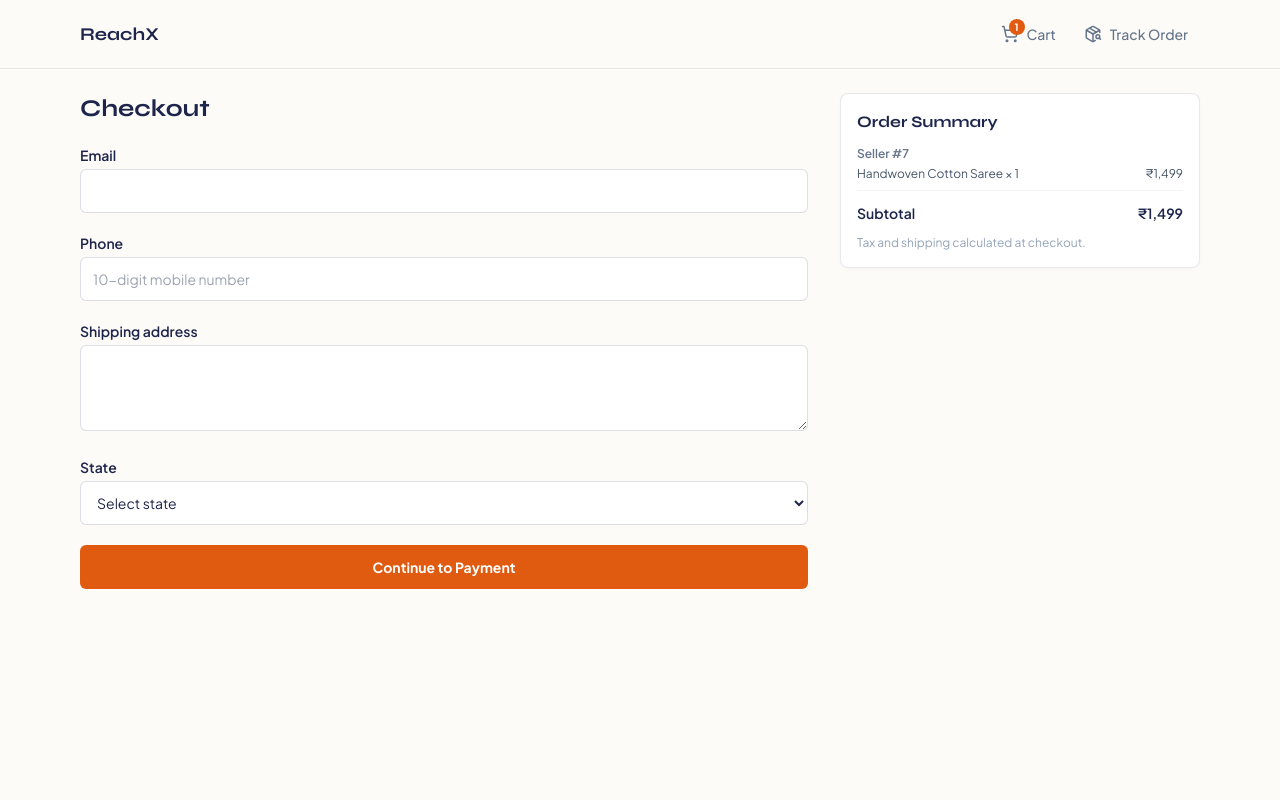
Test case: Checkout - Session 3, order creation + Razorpay wiring › shows an inline error and returns to the form on an order-creation failure, without touching the cart
Expected: the heading "Checkout" is shown, 80,94 -> 210,123
Type "guest@example.com" into the field labelled "Email" at coordinates (444, 191), box 80,169 -> 808,213
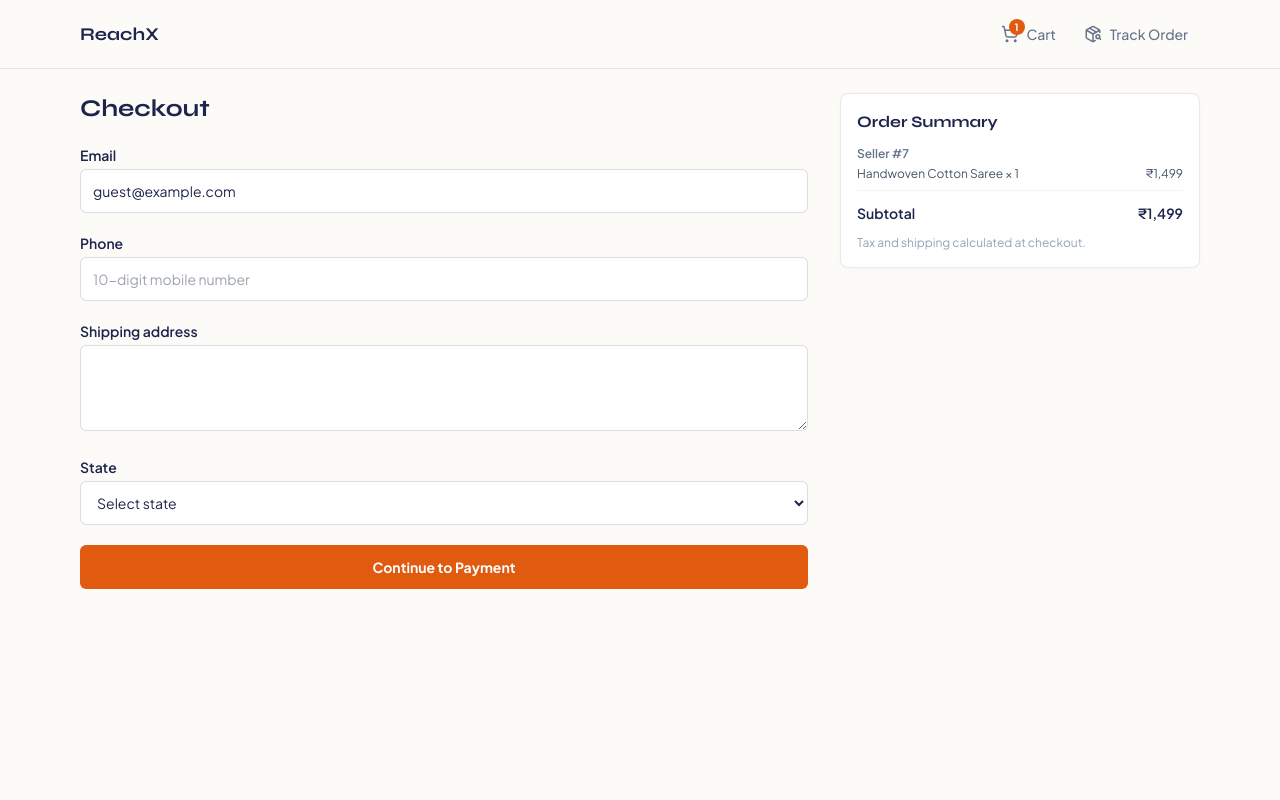
Type "9876543210" into the field labelled "Phone" at coordinates (444, 279), box 80,257 -> 808,301
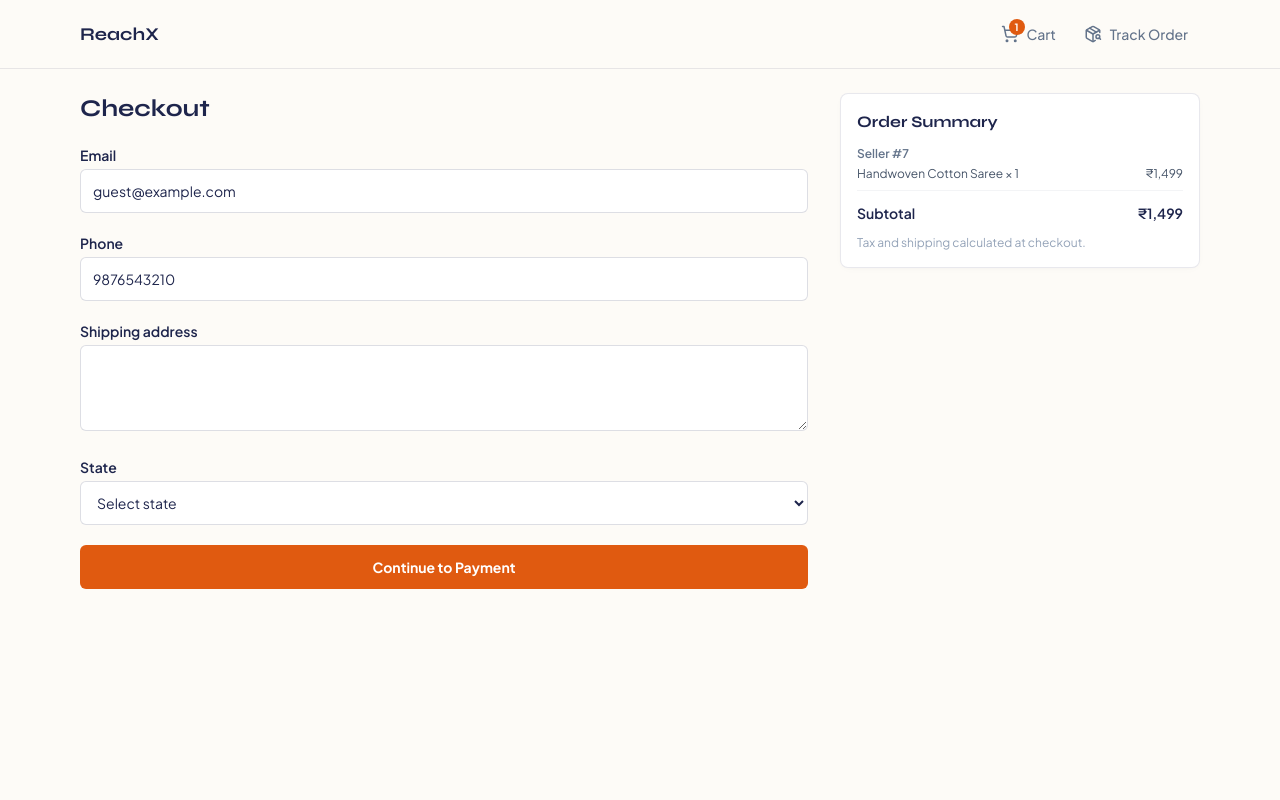
Type "123 MG Road, Bengaluru, 560001" into the text box labelled "Shipping address" at coordinates (444, 388), box 80,345 -> 808,431
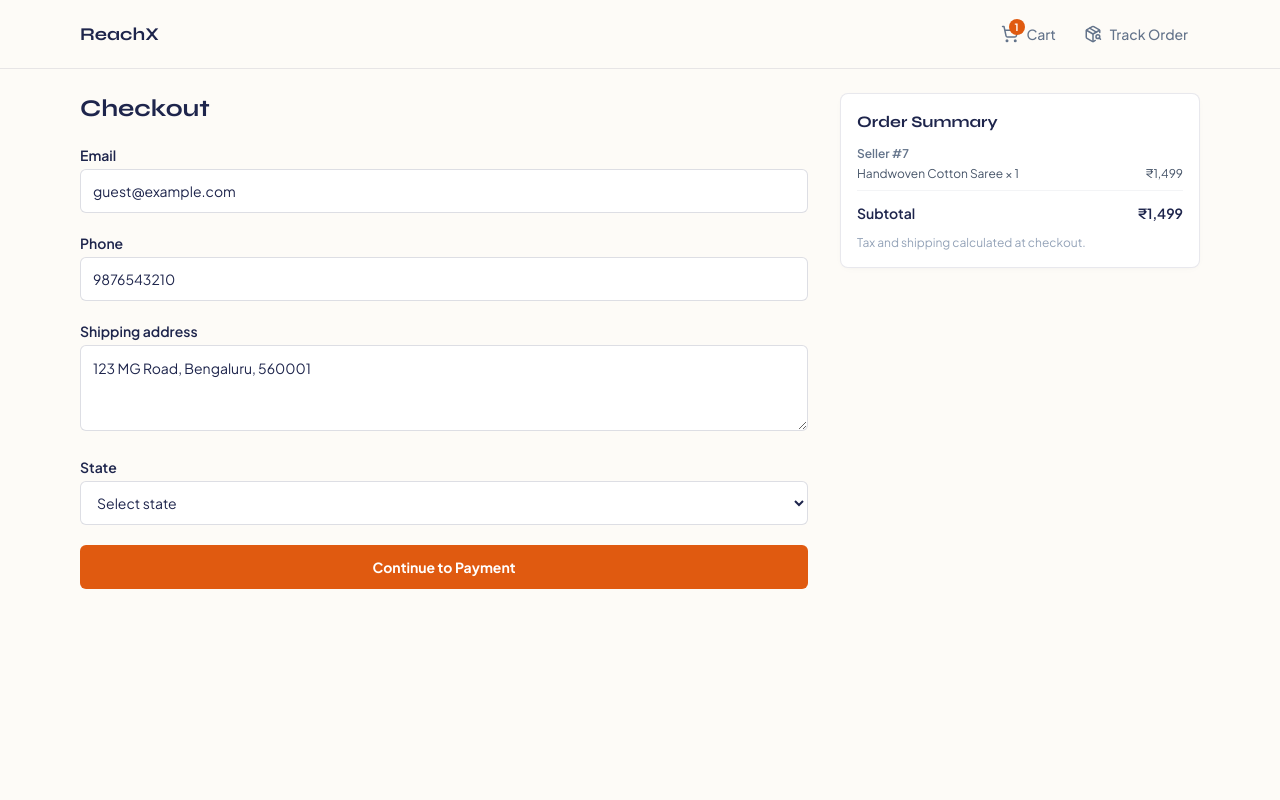
Select "Karnataka" in the dropdown labelled "State" at coordinates (444, 503), box 80,481 -> 808,525
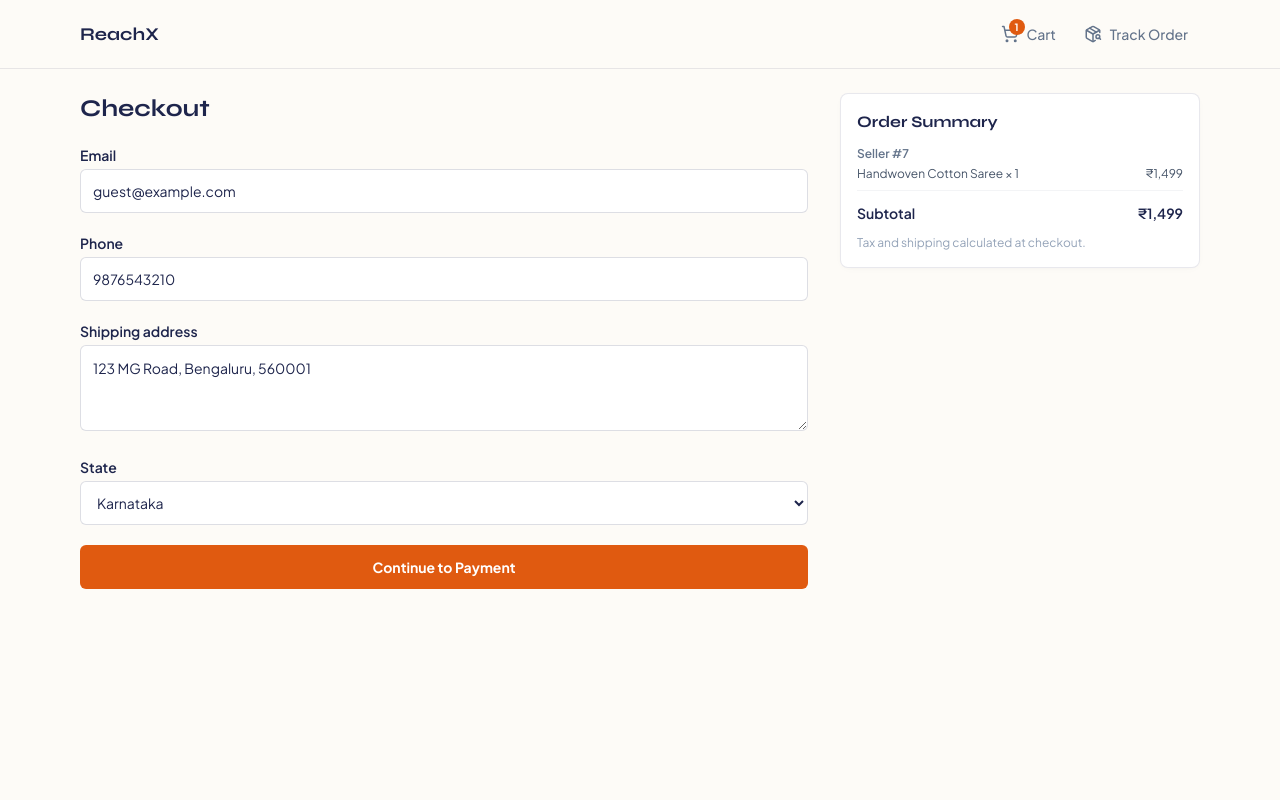
Click the button "Continue to Payment" at coordinates (444, 567), box 80,545 -> 808,589
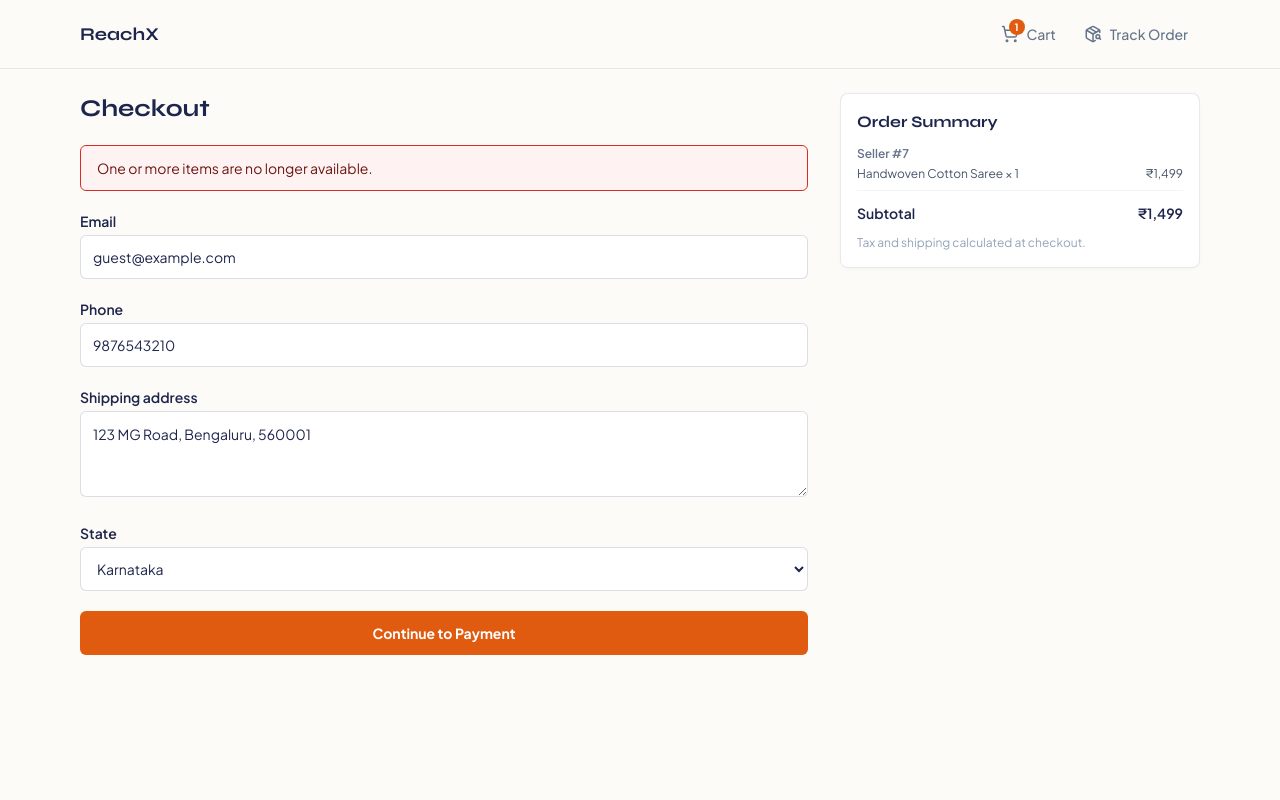
Expected: the button "Continue to Payment" is shown, 80,611 -> 808,655
Expected: the text "One or more items are no longer available." is shown, 80,145 -> 808,191
